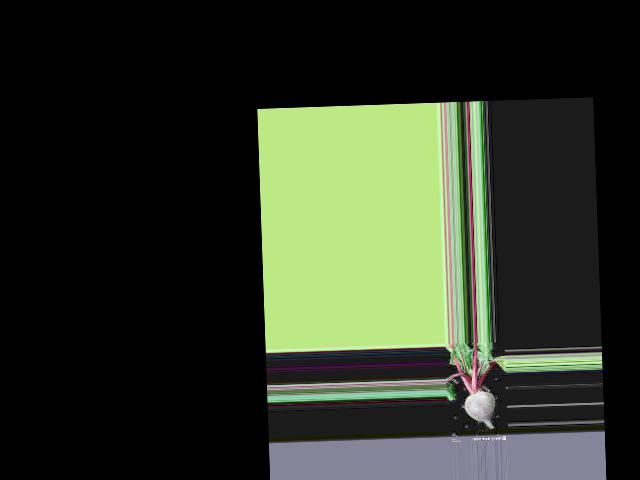beet: (444, 341, 508, 430)
